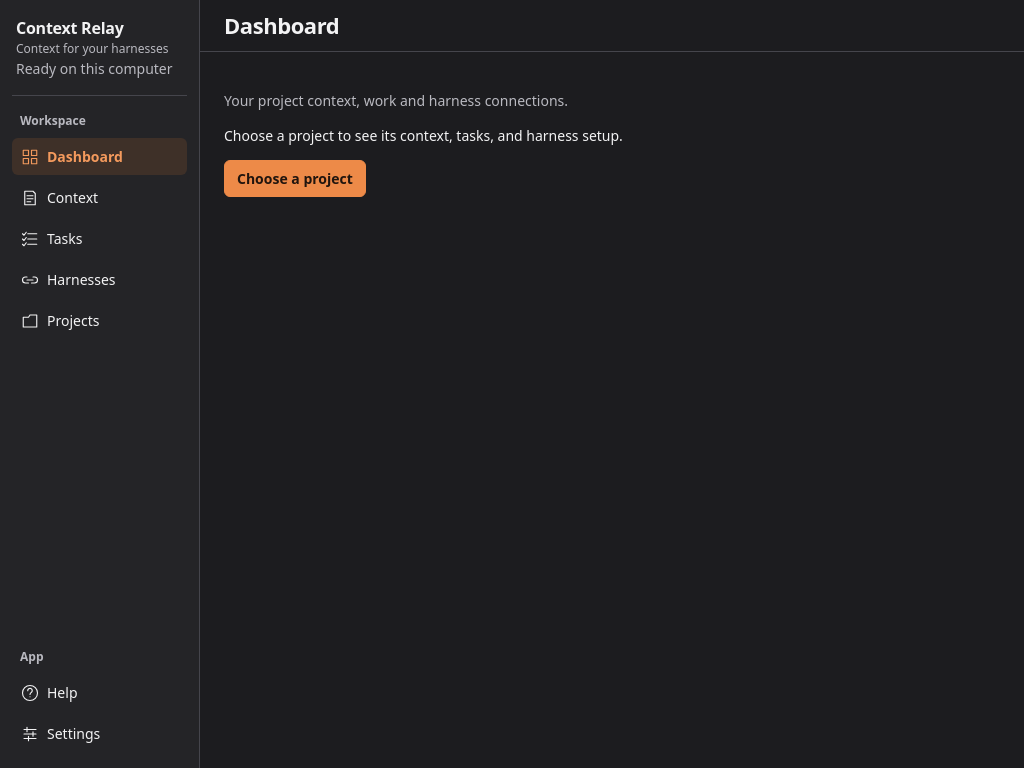
refreshes suggestions after an inline recovered review clears a quota failure
Expected: the text "Ready on this computer" is shown, [16, 59, 173, 78]
Click the button "Context" at (100, 198), box [12, 179, 187, 216]
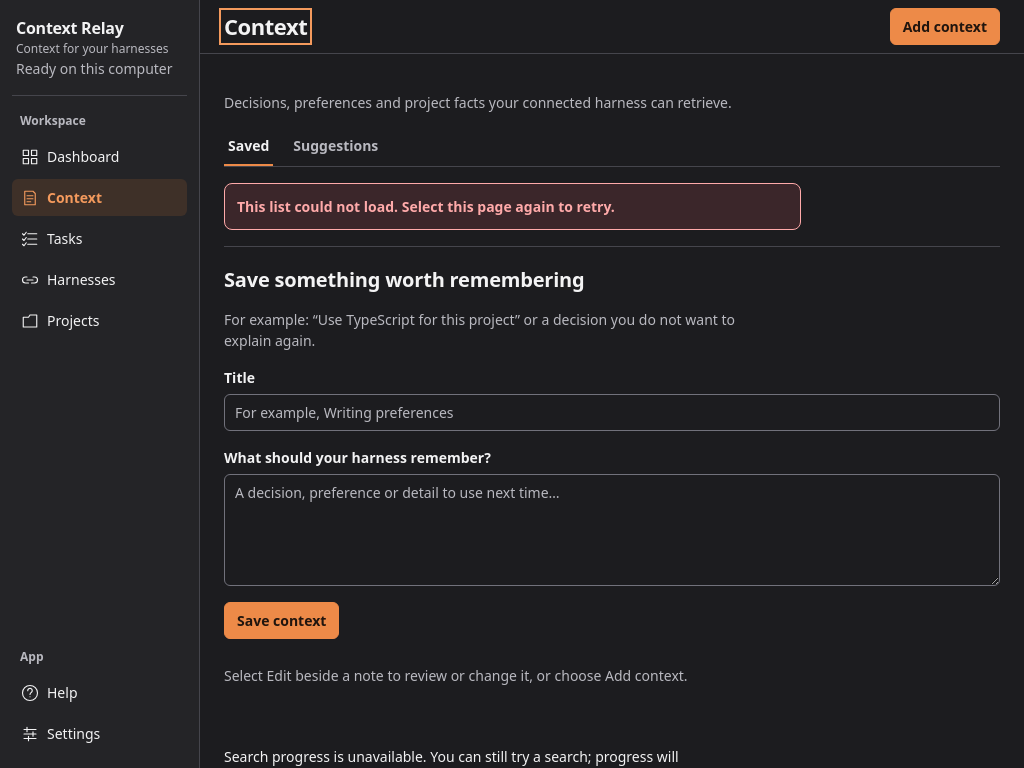
Click the button "Suggestions" at (336, 146), box [289, 127, 382, 166]
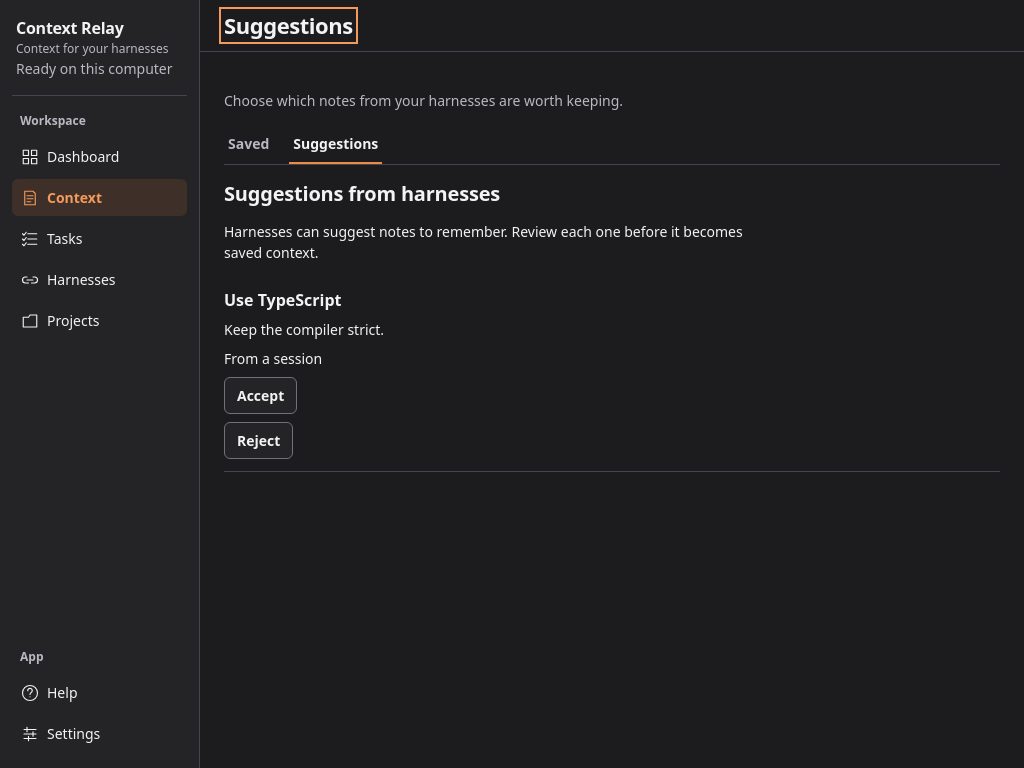
Click the button with aria-label "Accept Use TypeScript" at (261, 396), box [224, 377, 297, 414]
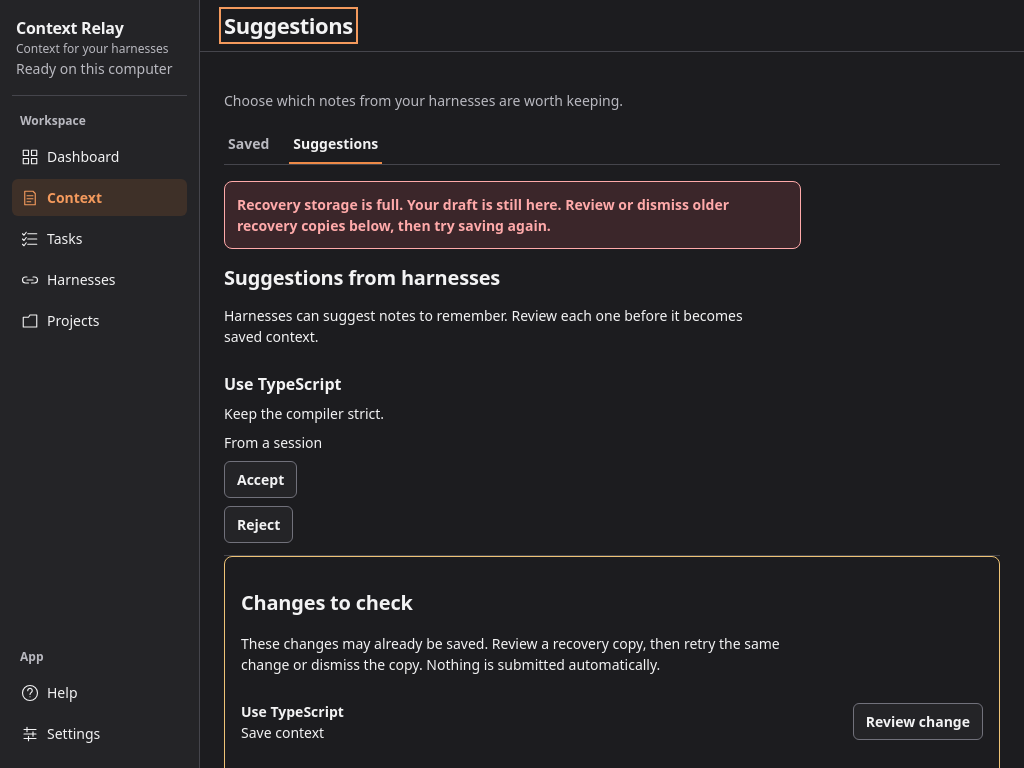
Now the text "Recovery storage is full" is shown, box [237, 195, 729, 235]
Click the button with aria-label "Review change: Use TypeScript" at (918, 722), box [853, 703, 983, 740]
(page scrolled)
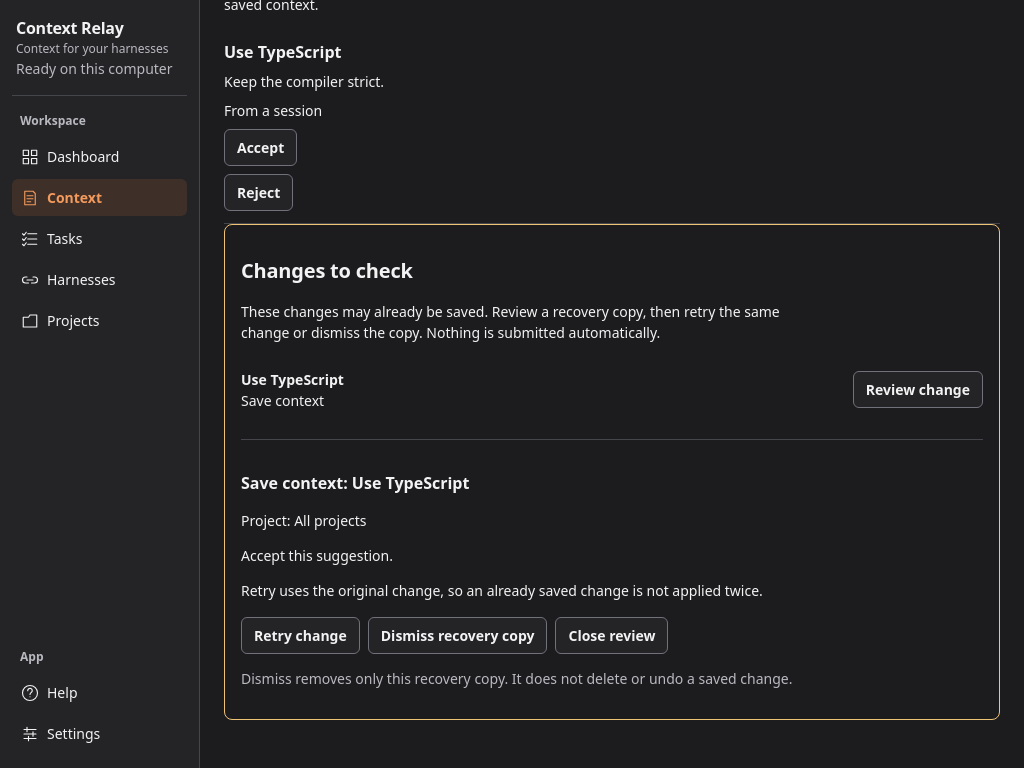
Click the button "Retry change" at (300, 636), box [241, 617, 360, 654]
(page scrolled)
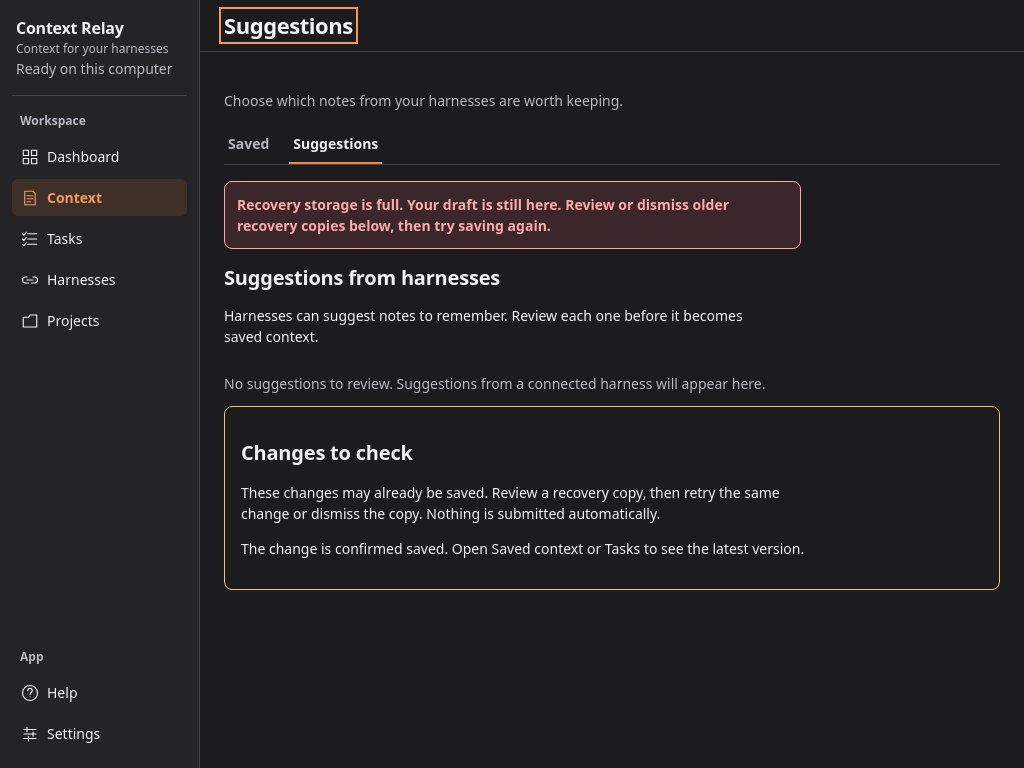
Now the list item "No suggestions to review. Suggestions from a connected harness will appear here." is shown, box [224, 374, 766, 393]
